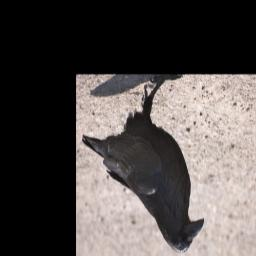Crow: (80, 75, 206, 254)
